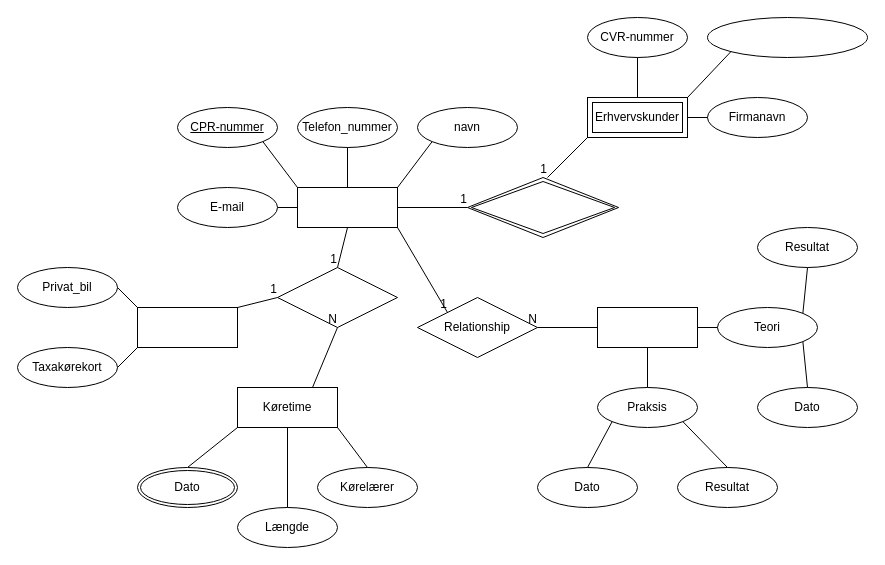
Some shapes in this 885 by 565 pixel diagram are drawn without their labels. Each missing label, with the centre of its shape:
"Afhængig_af(arver)" goes at point (542, 207).
"Firmaets_telefon_nummer" goes at point (787, 37).
"Kørekort" goes at point (187, 327).
"Privatkunder" goes at point (347, 207).
"Tager" goes at point (337, 297).
"Testforsøg" goes at point (647, 327).
